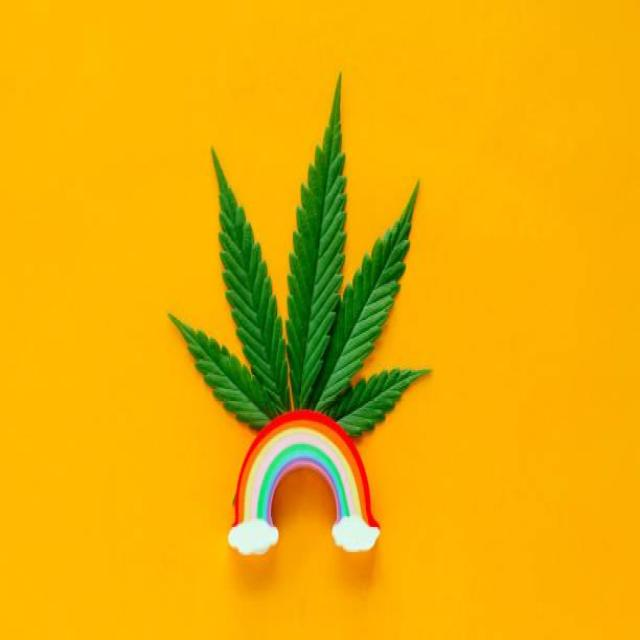cannabis: (166, 78, 436, 447)
